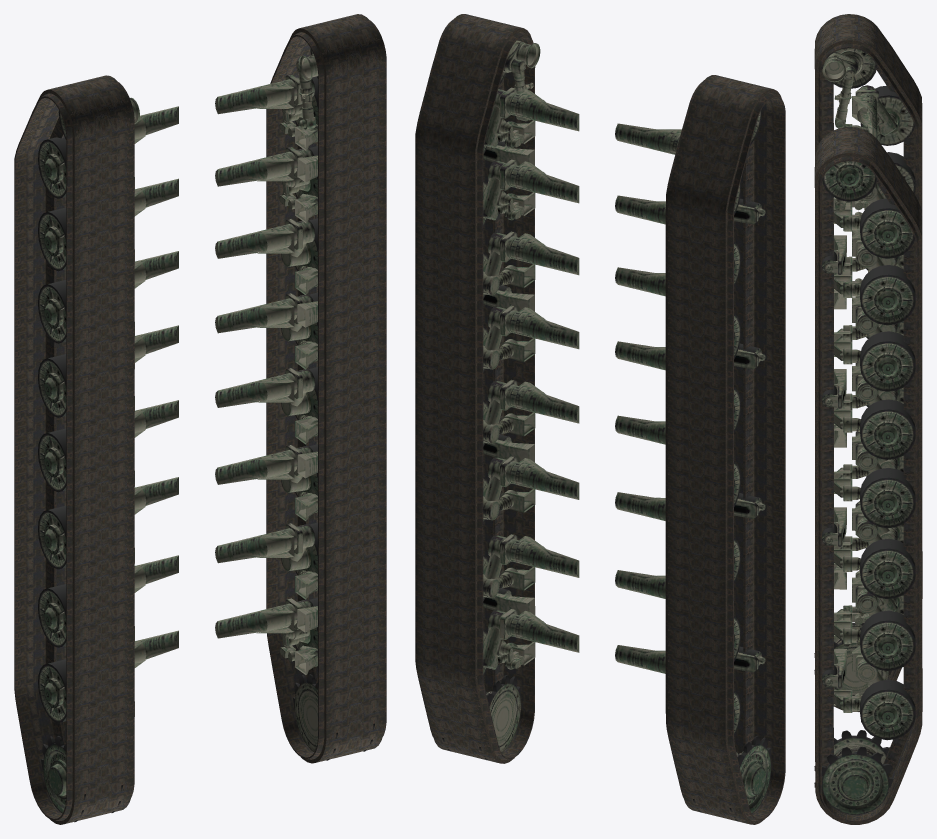
File: Chassis.glb
3 views of the same model, side by side, from view 1: azimuth 30°, elevation 25°; view 2: azimuth 150°, elevation 25°; view 3: azimuth 270°, elevation 25° (orthographic). The views are drawn at different scales.
Visible parts, largest first — view 1: set_0_group_0, set_1_group_0, set_3_group_0, set_2_group_0; view 2: set_0_group_0, set_1_group_0, set_3_group_0, set_2_group_0; view 3: set_3_group_0, set_1_group_0, set_2_group_0, set_0_group_0.
Part boxes in pixels (x1,y1,x2,y2): set_0_group_0: [14, 75, 134, 824]; set_1_group_0: [266, 14, 386, 763]; set_3_group_0: [215, 48, 374, 760]; set_2_group_0: [38, 97, 178, 822]; set_0_group_0: [665, 75, 785, 824]; set_1_group_0: [415, 14, 535, 763]; set_3_group_0: [442, 40, 579, 760]; set_2_group_0: [615, 109, 771, 821]; set_3_group_0: [814, 161, 915, 814]; set_1_group_0: [814, 127, 922, 824]; set_2_group_0: [814, 48, 915, 695]; set_0_group_0: [814, 14, 922, 711].
Size of the model in its own units: 3.37 by 7.39 by 1.08.
Materials: 4 (4 with a texture image).
